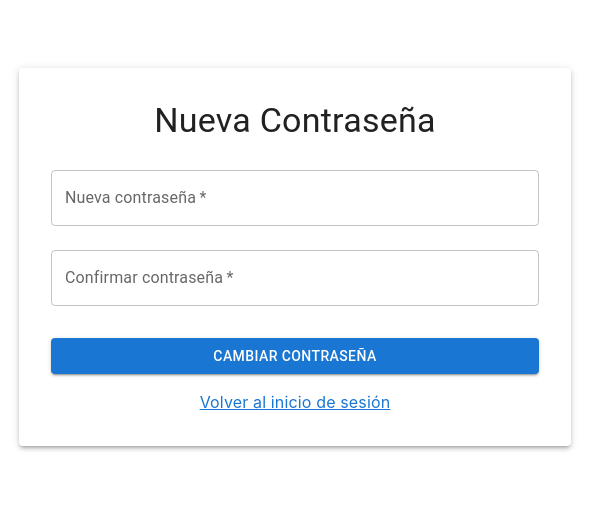
ResetPage › con token › muestra error si la API falla
Type "nueva-pass" into the password field labelled "Nueva contraseña *" at (295, 198), box [51,170,539,226]
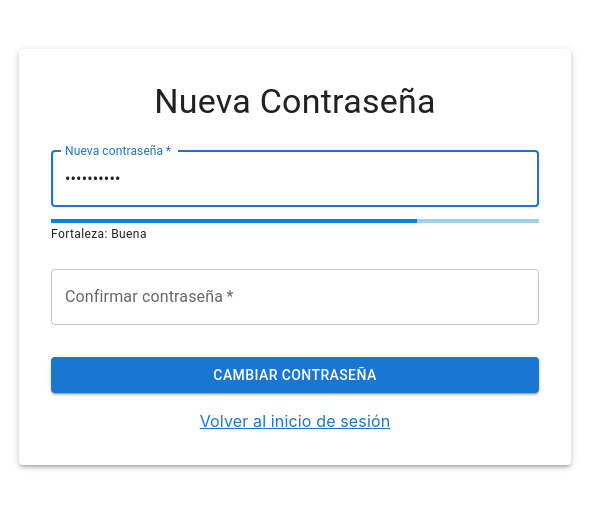
Type "nueva-pass" into the password field labelled "Confirmar contraseña *" at (295, 297), box [51,269,539,325]
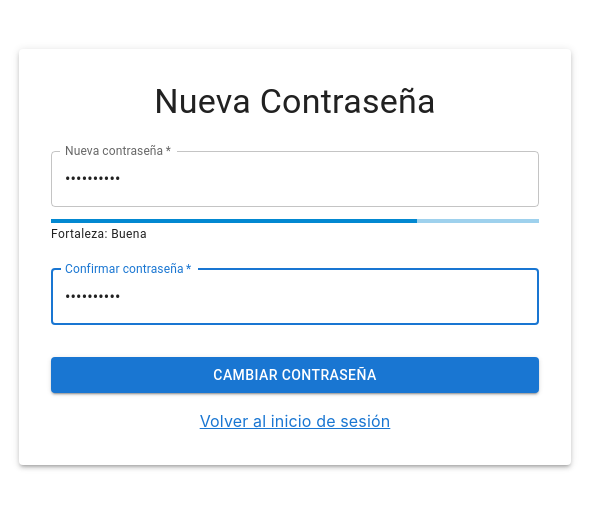
Click the button "Cambiar contraseña" at (295, 375), box [51,357,539,393]
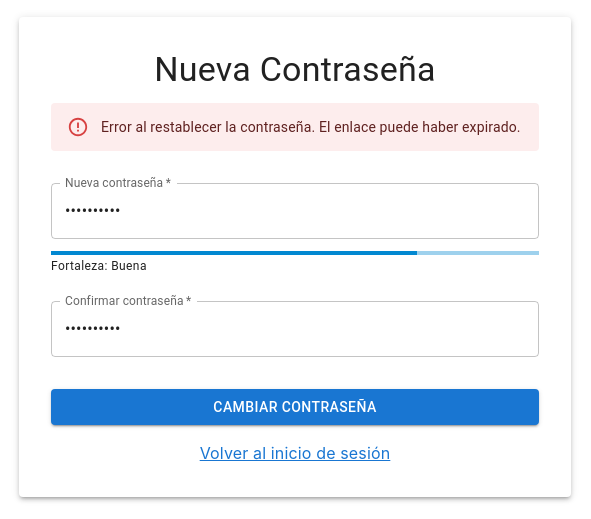
Expected: the text "El enlace puede haber expirado" is shown, [101,119,521,135]
